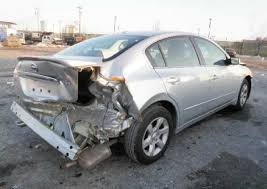Broken-glass: (74, 65, 105, 106)
Smashed: (10, 62, 138, 166)
